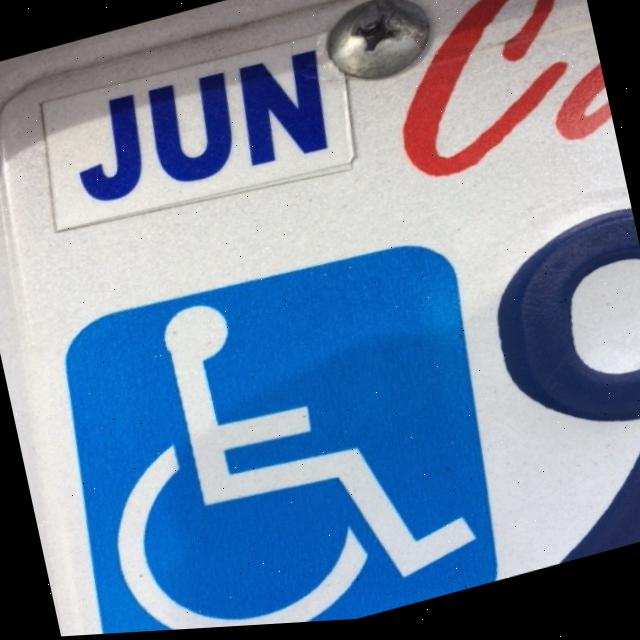symbol_of_access: (72, 244, 492, 637)
